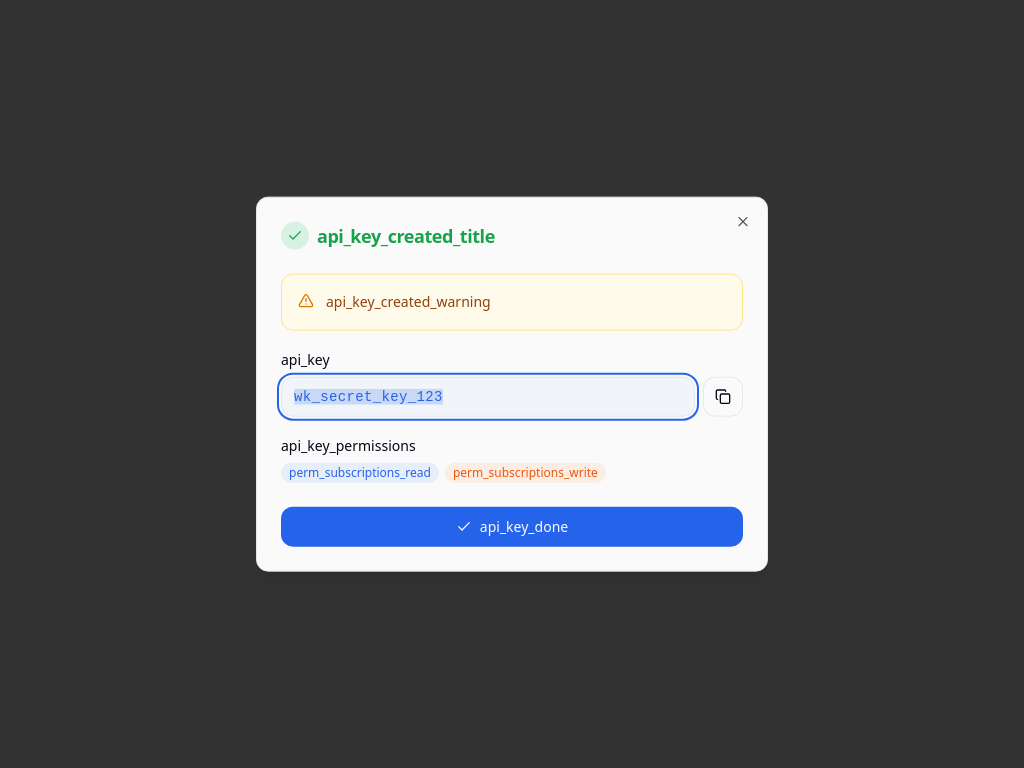
ApiKeyRevealDialog › copies key to clipboard and shows copied state when copy button is clicked
Click the button named "api_key_copy" at point(723, 396), box [703,376,743,416]
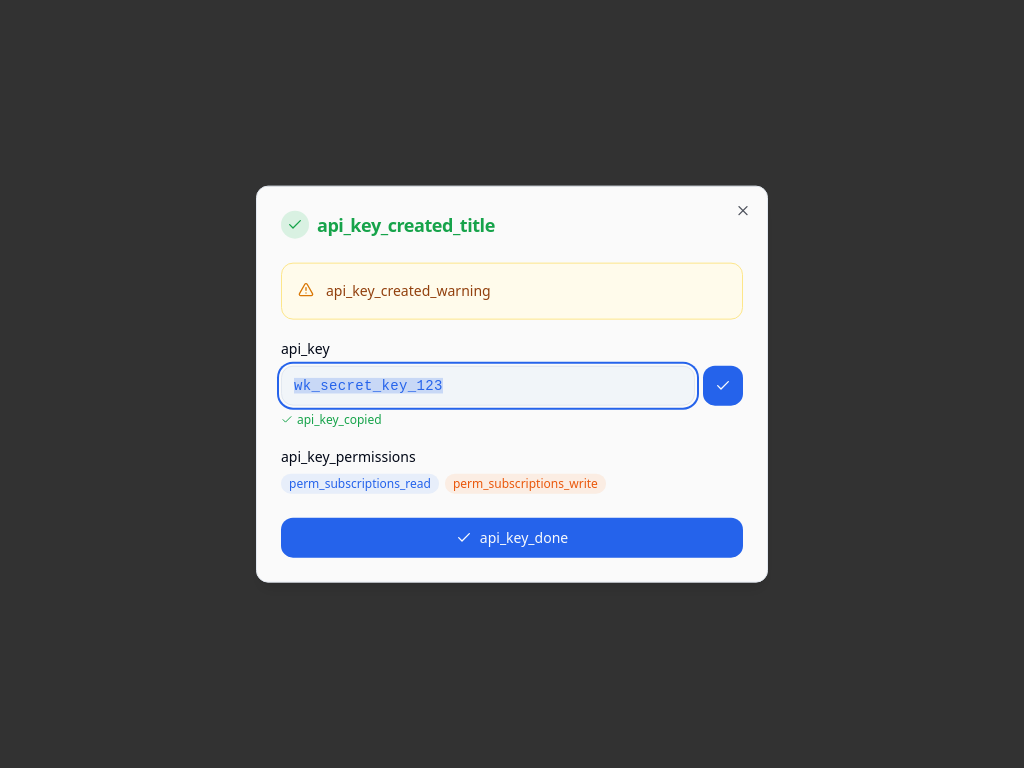
Expected: the text "api_key_copied" is shown, [281,410,382,427]
